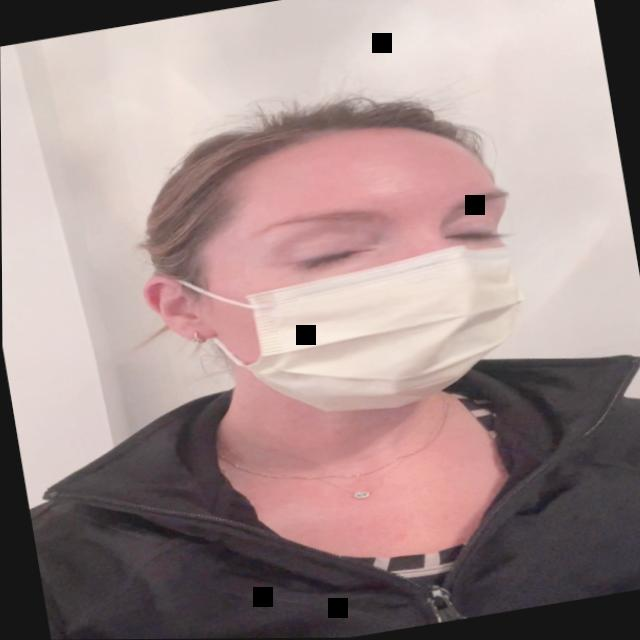Mask: (96, 86, 565, 468)
